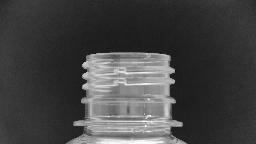No Cap: (70, 46, 186, 132)
